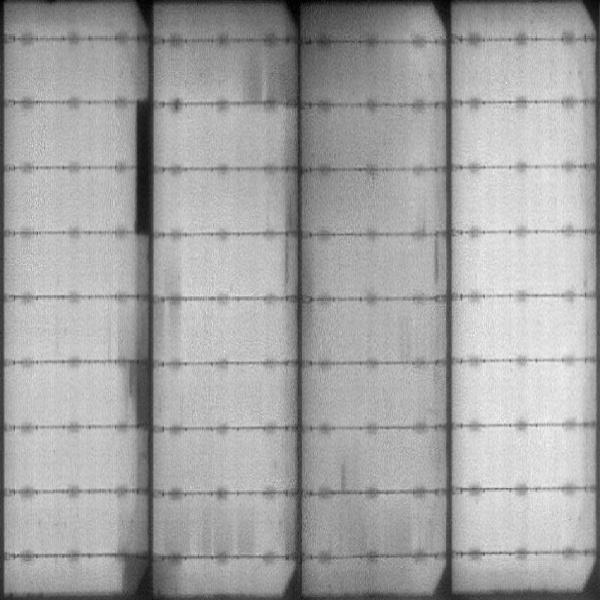black_border: (131, 98, 155, 238), (131, 351, 160, 435)
scratch: (426, 230, 442, 286)
